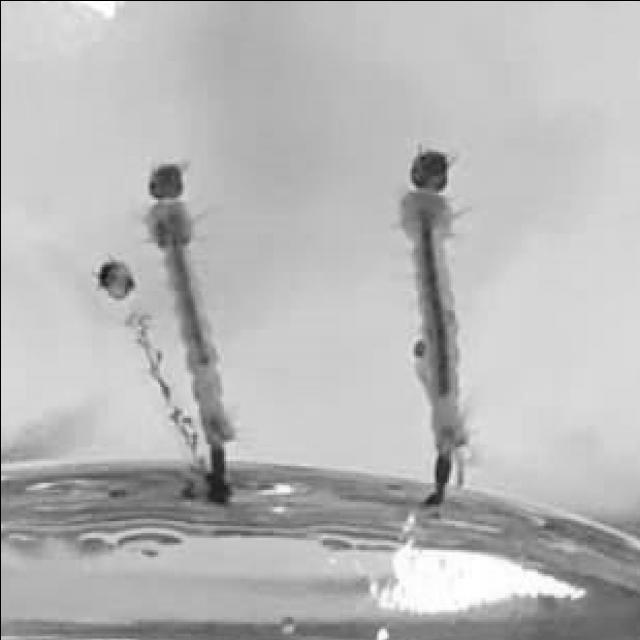larvas: (150, 158, 237, 485), (407, 150, 468, 505)
